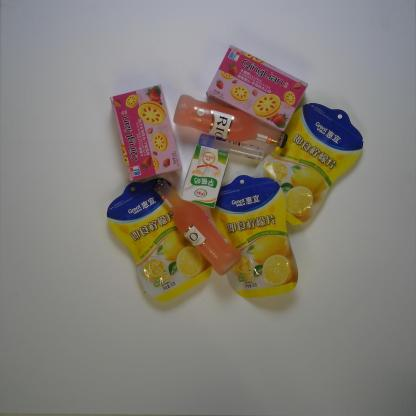Alcohol: (150, 176, 243, 276), (173, 95, 288, 149)
Dessert: (205, 43, 311, 133), (110, 84, 182, 182)
Dried Fruit: (251, 102, 364, 225), (107, 178, 214, 302), (210, 174, 298, 300)
Milk: (181, 144, 230, 209)
Stationery: (198, 133, 266, 161)
